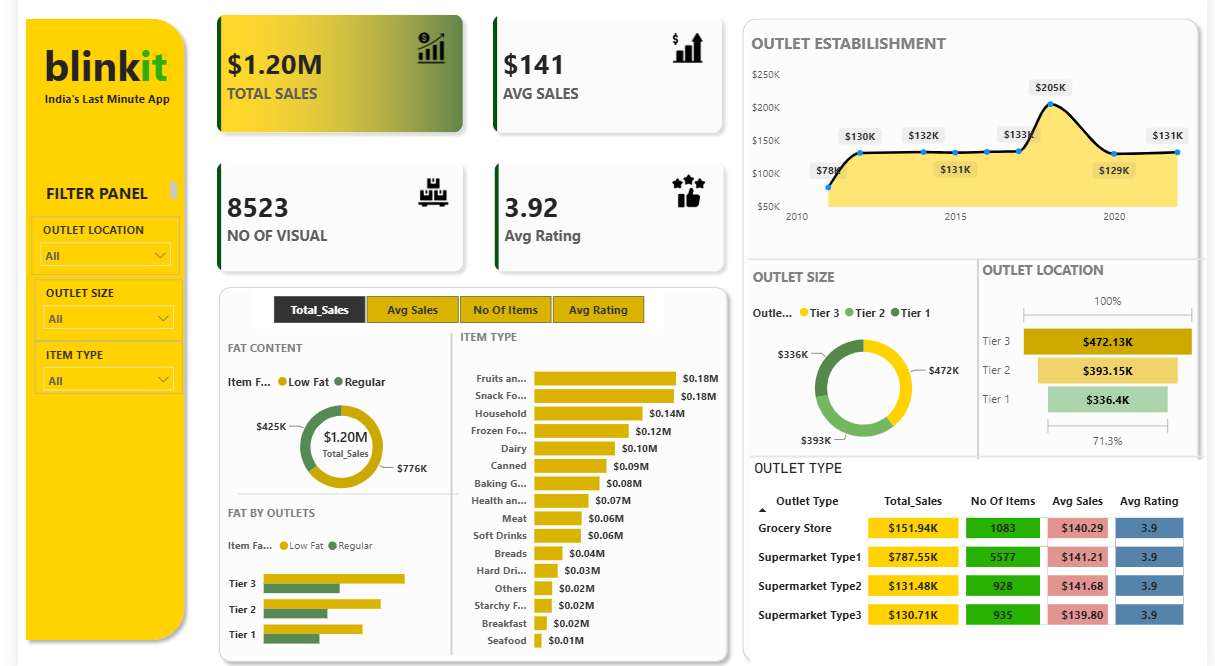

The page's visual inventory and layout, read from the dashboard file:
{"tool":"powerbi","page":{"name":"Page 1","canvas":[1400,800],"ordinal":0},"visuals":[{"type":"shape","box":[0,24.7,205,750],"z":0},{"type":"textbox","box":[15.9,49.5,175,97.2],"z":1000},{"type":"textbox","box":[26.5,113.1,178.5,33.6],"z":2000},{"type":"cardVisual","fields":{"Data":["BlinkIT Grocery Data.Total_Sales"]},"box":[205,0,348.2,197.9],"z":3000},{"type":"cardVisual","fields":{"Data":["BlinkIT Grocery Data.Avg Sales"]},"box":[530.2,0,328.7,197.9],"z":4000},{"type":"cardVisual","fields":{"Data":["BlinkIT Grocery Data.No Of Items"]},"box":[205,173.2,348.2,187.3],"z":5000},{"type":"cardVisual","fields":{"Data":["BlinkIT Grocery Data.Avg Rating"]},"box":[532,173.2,328.7,187.3],"z":6000},{"type":"shape","box":[228,341.1,616.8,459.5],"z":7000},{"type":"slicer","title":" FAT CONTENT","fields":{"Values":["BlinkIT Grocery Data.Outlet Location Type"]},"box":[15.9,266.9,175,68.9],"z":8000},{"type":"slicer","fields":{"Values":["Matrics.Matrics"]},"box":[275.7,353.5,486,46],"z":9000},{"type":"cardVisual","fields":{"Data":["BlinkIT Grocery Data.Total_Sales"]},"box":[325.2,498.4,121.9,72.5],"z":10000},{"type":"clusteredBarChart","title":"FAT BY OUTLETS","fields":{"Y":["BlinkIT Grocery Data.Total_Sales"],"Category":["BlinkIT Grocery Data.Outlet Location Type"],"Series":["BlinkIT Grocery Data.Item Fat Content"]},"box":[242.1,606.2,268.6,182],"z":11000},{"type":"shape","box":[259.8,581.5,259.8,24.7],"z":12000},{"type":"shape","box":[362.3,399.4,296.9,388.8],"z":13000},{"type":"barChart","title":"ITEM TYPE","fields":{"Y":["BlinkIT Grocery Data.Total_Sales"],"Category":["BlinkIT Grocery Data.Item Type"]},"box":[516.1,399.4,314.6,388.8],"z":14000},{"type":"shape","box":[844.8,24.7,554.9,775.9],"z":15000},{"type":"lineChart","title":"OUTLET ESTABILISHMENT","fields":{"Category":["BlinkIT Grocery Data.Outlet Establishment Year"],"Y":["BlinkIT Grocery Data.Total_Sales"]},"box":[858.9,49.5,524.9,235.1],"z":16000},{"type":"shape","box":[860.7,307.5,539,19.4],"z":17000},{"type":"donutChart","title":" OUTLET SIZE","fields":{"Y":["BlinkIT Grocery Data.Total_Sales"],"Category":["BlinkIT Grocery Data.Outlet Location Type"]},"box":[860.7,327,270.4,222.7],"z":18000},{"type":"shape","box":[996.8,318.1,268.6,470.1],"z":19000},{"type":"funnel","title":"OUTLET LOCATION","fields":{"Y":["BlinkIT Grocery Data.Total_Sales"],"Category":["BlinkIT Grocery Data.Outlet Location Type"]},"box":[1131.1,318.1,261.6,228],"z":20000},{"type":"shape","box":[862.5,546.1,535.5,7.1],"z":21000},{"type":"pivotTable","title":"OUTLET TYPE","fields":{"Rows":["BlinkIT Grocery Data.Outlet Type"],"Values":["BlinkIT Grocery Data.Total_Sales","BlinkIT Grocery Data.No Of Items","BlinkIT Grocery Data.Avg Sales","BlinkIT Grocery Data.Avg Rating"]},"box":[862.5,553.2,537.3,247.4],"z":22000},{"type":"donutChart","title":"FAT CONTENT","fields":{"Y":["BlinkIT Grocery Data.Total_Sales"],"Category":["BlinkIT Grocery Data.Item Fat Content"]},"box":[242.1,411.8,277.5,194.4],"z":23000},{"type":"slicer","title":" FAT CONTENT","fields":{"Values":["BlinkIT Grocery Data.Outlet Size"]},"box":[19.4,341.1,175,72.5],"z":24000},{"type":"slicer","title":" FAT CONTENT","fields":{"Values":["BlinkIT Grocery Data.Item Type"]},"box":[19.4,413.6,175,61.9],"z":25000},{"type":"textbox","box":[0,220.9,192.6,31.8],"z":26000},{"type":"image","box":[761.7,49.5,54.8,37.1],"z":26001},{"type":"image","box":[463,49.5,47.7,37.1],"z":26002},{"type":"image","box":[463,220.9,53,35.3],"z":26003},{"type":"image","box":[758.2,217.4,63.6,38.9],"z":26004}]}

Visuals, with their boxes on the page's 1400x800 design canvas (x1, y1, x2, y2). These are canvas units, not pixel positions in the 1215x666 screenshot, which may show the page scaled, cropped or inside an application window:
shape: crop(0, 25, 205, 775)
textbox: crop(16, 50, 191, 147)
textbox: crop(26, 113, 205, 147)
cardVisual - BlinkIT Grocery Data.Total_Sales: crop(205, 0, 553, 198)
cardVisual - BlinkIT Grocery Data.Avg Sales: crop(530, 0, 859, 198)
cardVisual - BlinkIT Grocery Data.No Of Items: crop(205, 173, 553, 360)
cardVisual - BlinkIT Grocery Data.Avg Rating: crop(532, 173, 861, 360)
shape: crop(228, 341, 845, 801)
" FAT CONTENT" slicer: crop(16, 267, 191, 336)
slicer - Matrics.Matrics: crop(276, 354, 762, 400)
cardVisual - BlinkIT Grocery Data.Total_Sales: crop(325, 498, 447, 571)
"FAT BY OUTLETS" clusteredBarChart: crop(242, 606, 511, 788)
shape: crop(260, 582, 520, 606)
shape: crop(362, 399, 659, 788)
"ITEM TYPE" barChart: crop(516, 399, 831, 788)
shape: crop(845, 25, 1400, 801)
"OUTLET ESTABILISHMENT" lineChart: crop(859, 50, 1384, 285)
shape: crop(861, 308, 1400, 327)
" OUTLET SIZE" donutChart: crop(861, 327, 1131, 550)
shape: crop(997, 318, 1265, 788)
"OUTLET LOCATION" funnel: crop(1131, 318, 1393, 546)
shape: crop(862, 546, 1398, 553)
"OUTLET TYPE" pivotTable: crop(862, 553, 1400, 801)
"FAT CONTENT" donutChart: crop(242, 412, 520, 606)
" FAT CONTENT" slicer: crop(19, 341, 194, 414)
" FAT CONTENT" slicer: crop(19, 414, 194, 476)
textbox: crop(0, 221, 193, 253)
image: crop(762, 50, 816, 87)
image: crop(463, 50, 511, 87)
image: crop(463, 221, 516, 256)
image: crop(758, 217, 822, 256)
